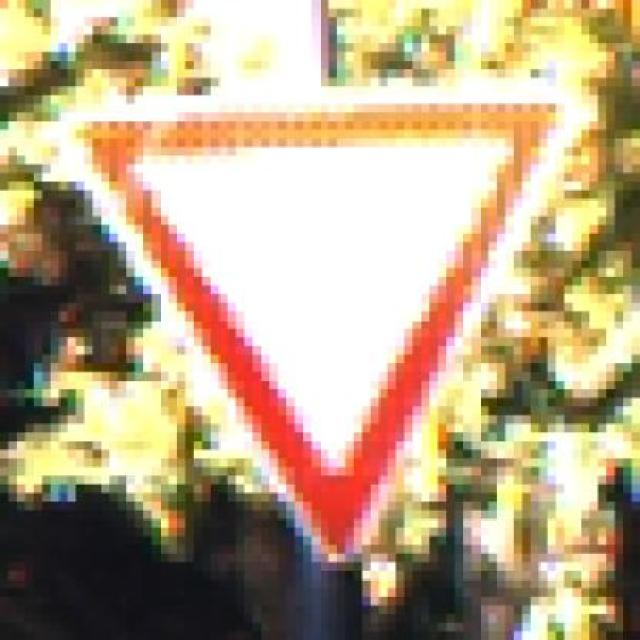Give Way: (25, 69, 598, 606)
